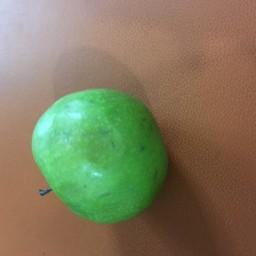Good_apple: (25, 79, 173, 229)
